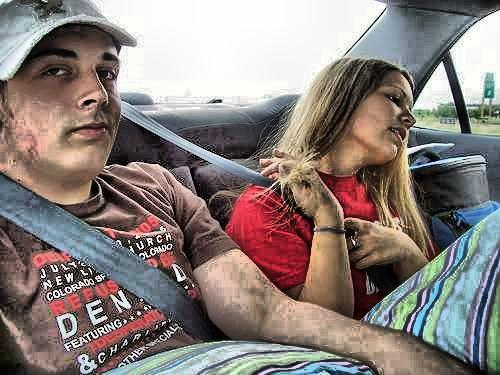seatbelt: (8, 171, 208, 331), (118, 90, 295, 200)
